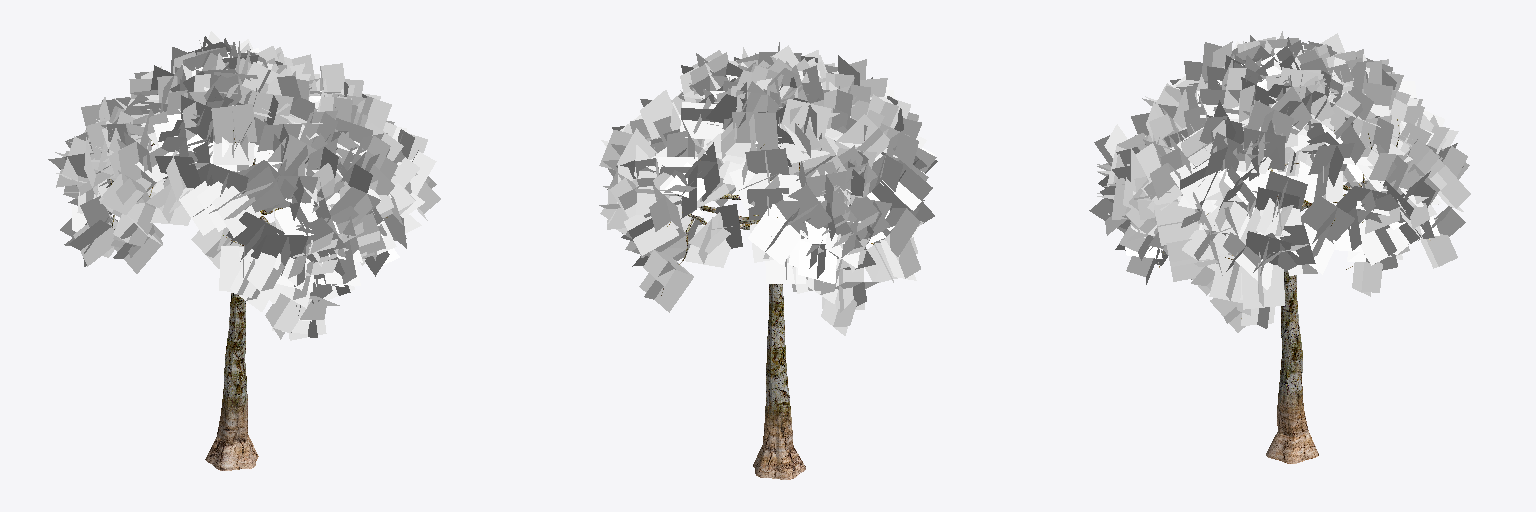
3 renders of one model, left to right at view 1: azimuth 30°, elevation 25°; view 2: azimuth 150°, elevation 25°; view 3: azimuth 270°, elevation 25°, orthographic.
Parts seen in each view (by area): view 1: tree; view 2: tree; view 3: tree.
Boxes of the visible parts, <box> form: tree: <box>48,31,440,470</box>; tree: <box>599,42,937,479</box>; tree: <box>1089,31,1470,463</box>.
Size of the model in its own units: 161 by 184 by 156.
Materials: 2 (1 with a texture image).